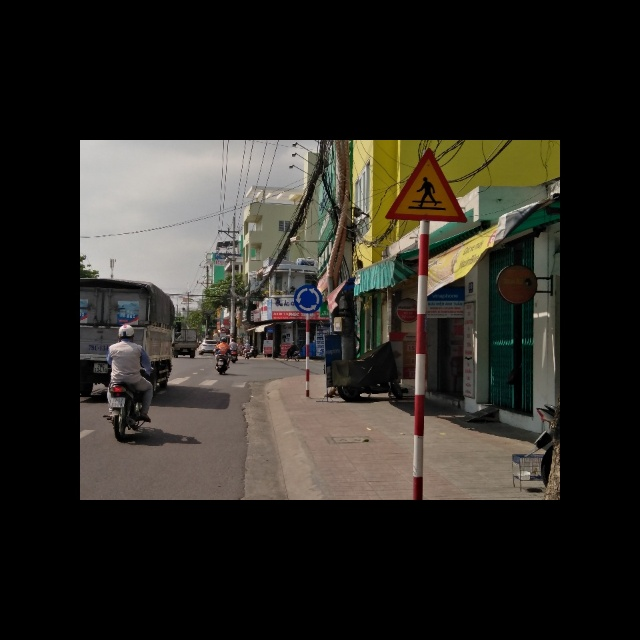Nơi giao nhau chạy theo vòng xuyến: (294, 286, 323, 314)
Đường người đi bộ sang đường: (385, 147, 473, 223)
